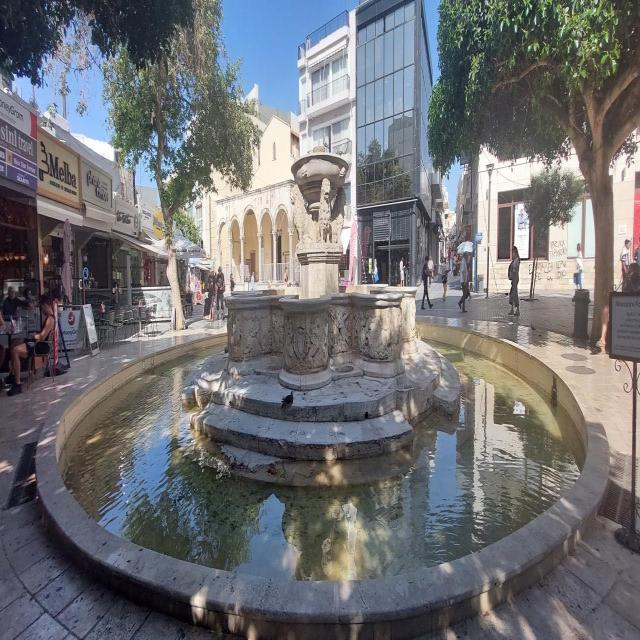Liontaria: (226, 142, 420, 382)
